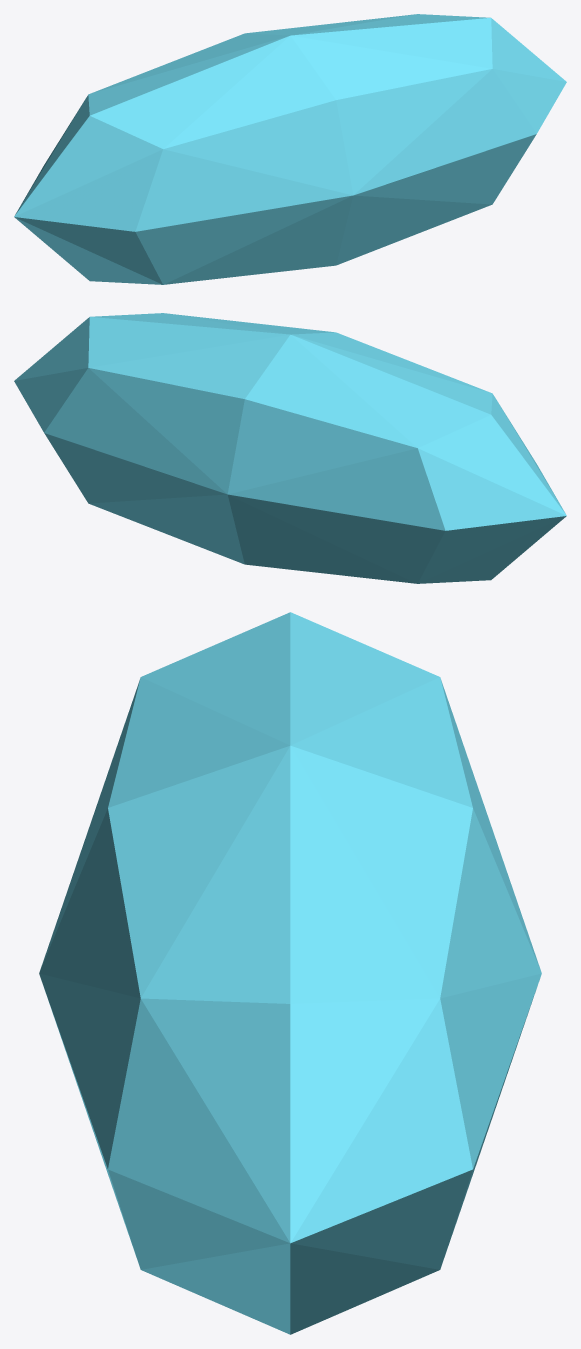
Rendered from staff_stone.dae.
3 renders of one model, top to bottom at view 1: azimuth 30°, elevation 25°; view 2: azimuth 150°, elevation 25°; view 3: azimuth 270°, elevation 25°, orthographic. The views are drawn at different scales.
Parts seen in each view (by area): view 1: Cube; view 2: Cube; view 3: Cube.
Part boxes in pixels (left/top/right/bottom): Cube: left=14, top=14, right=566, bottom=284; Cube: left=14, top=313, right=566, bottom=583; Cube: left=39, top=612, right=541, bottom=1334.
Bounding box in the file's own units: 0.439 × 0.1728 × 0.1728.
Materials: 1 (1 with a texture image).
